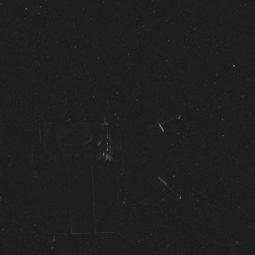proba_2: (47, 102, 194, 224)
